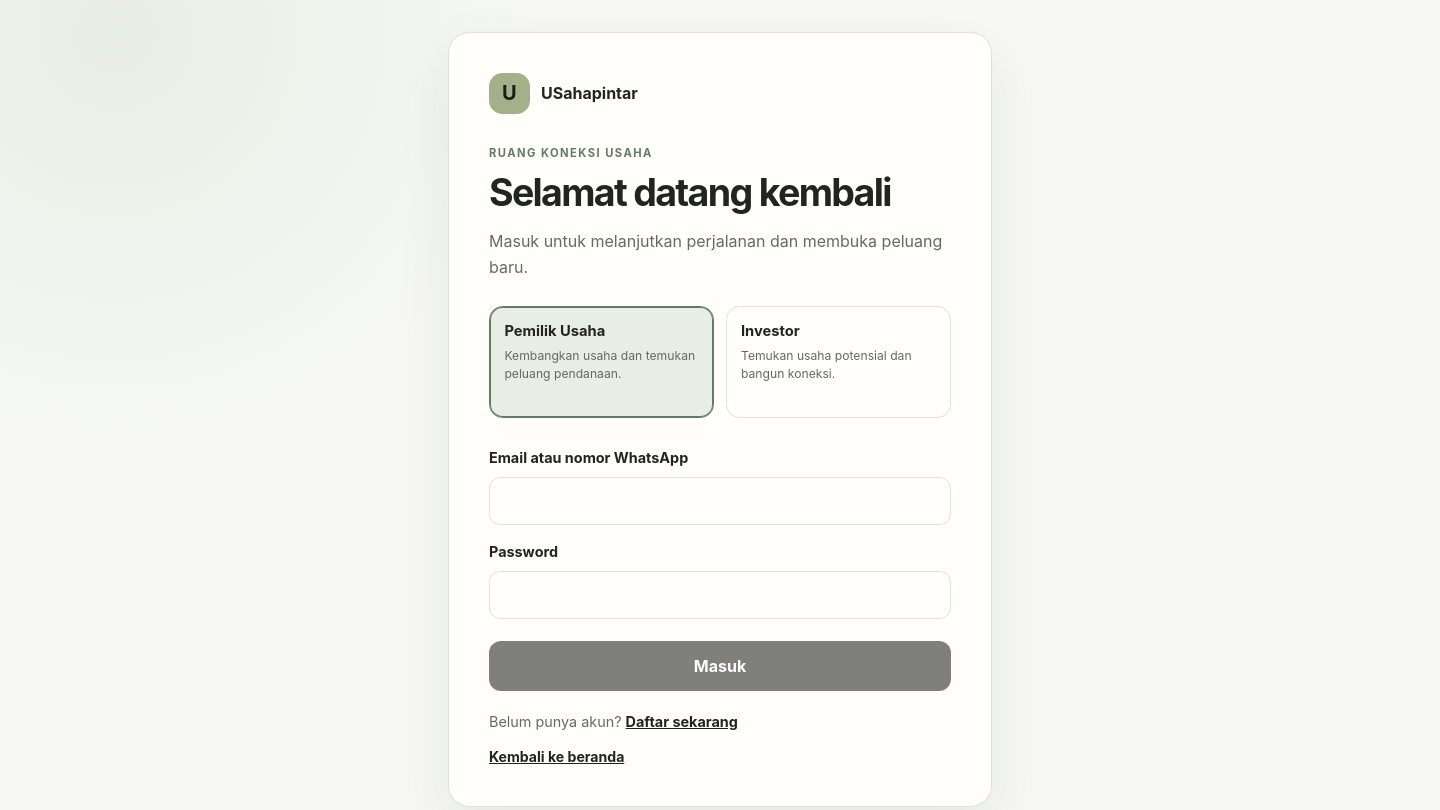
Scenario: ClientLoginPage › uses the investor endpoint when Investor is selected
This screenshot has width=1440, height=810.
Click the button "Investor Temukan usaha potensial dan bangun koneksi.".
click(838, 362)  # box [726,306,951,418]
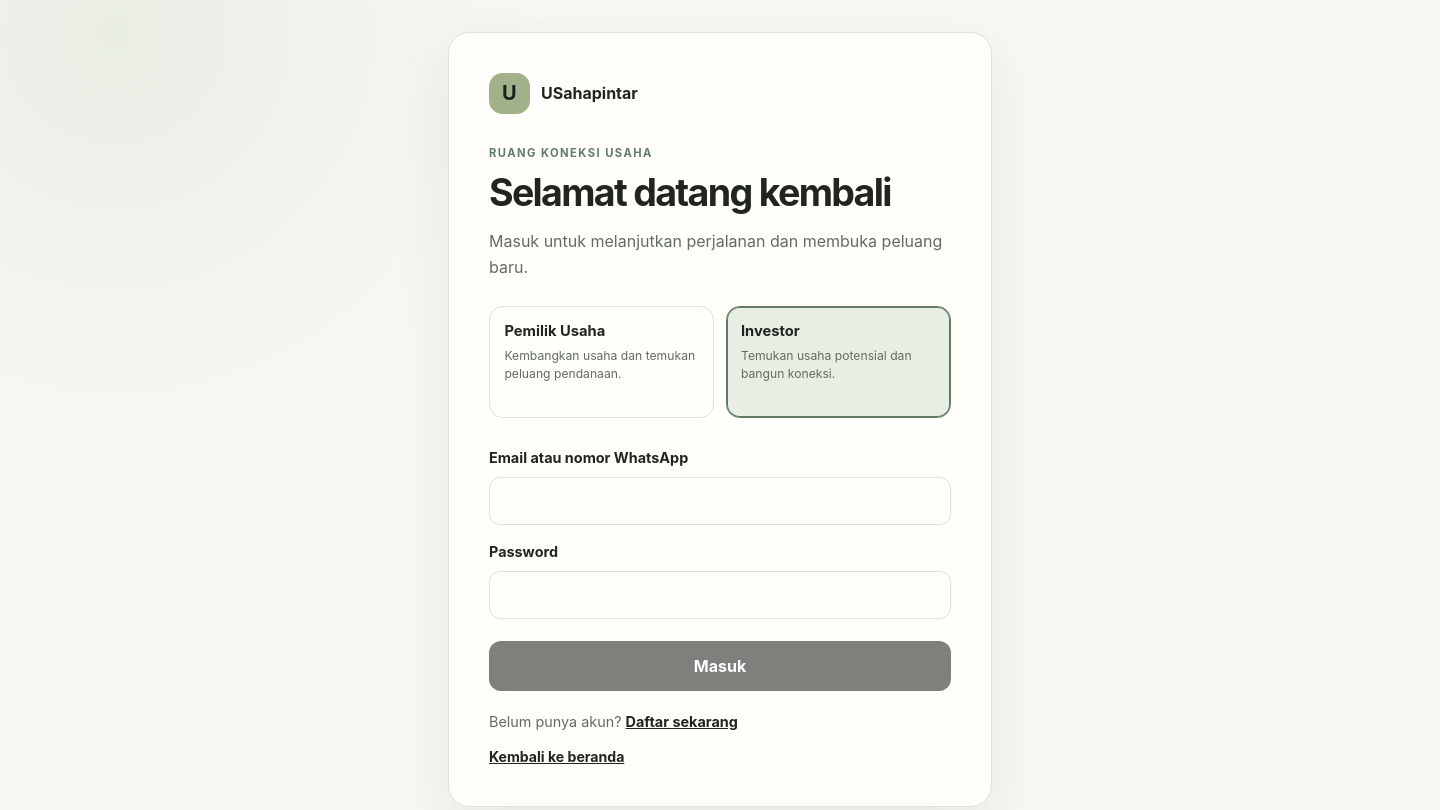
Type "investor@example.test" into the field labelled "Email atau nomor WhatsApp".
click(720, 501); type("investor@example.test")  # box [489,477,951,525]
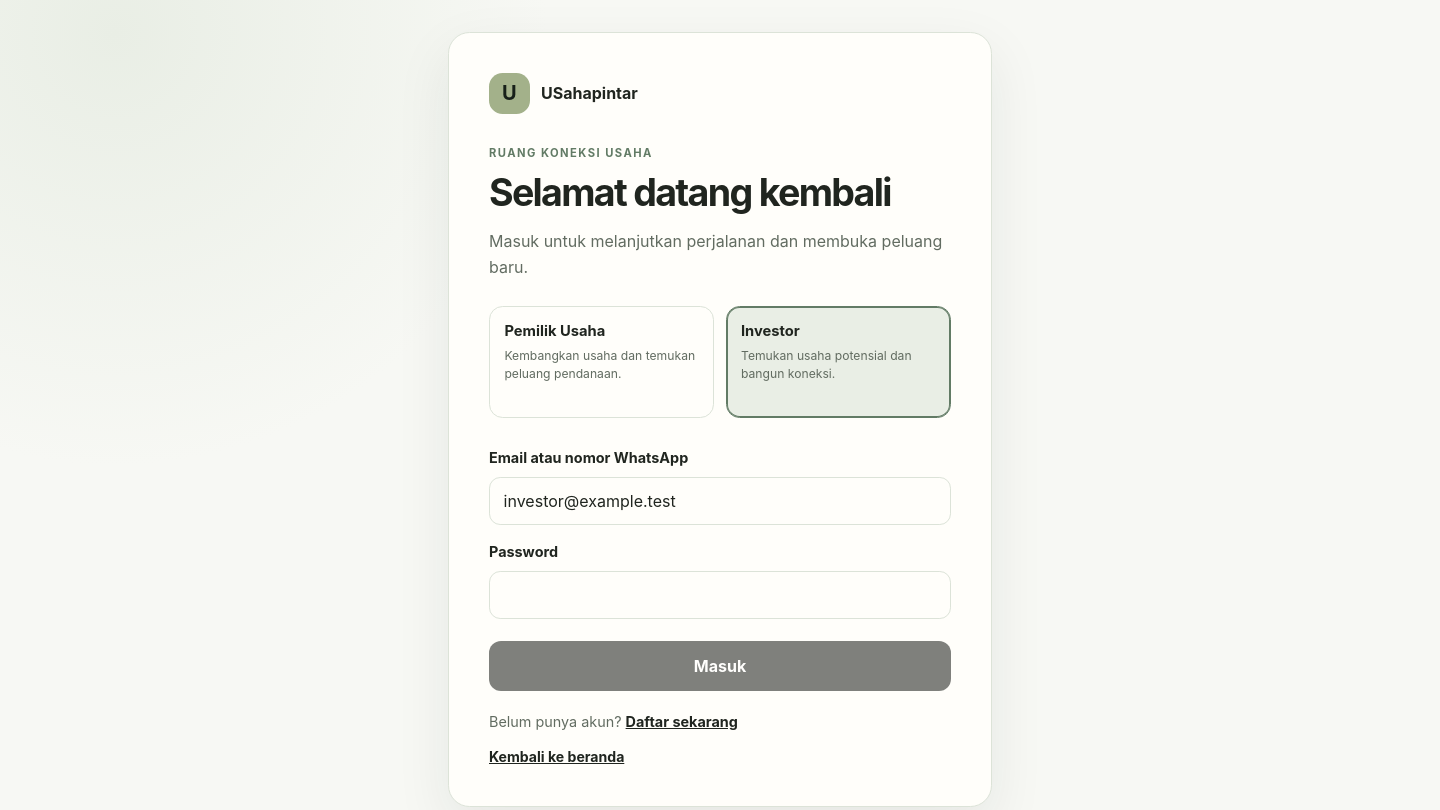
Type "not-a-real-password" into the password field labelled "Password".
click(720, 595); type("not-a-real-password")  # box [489,571,951,619]
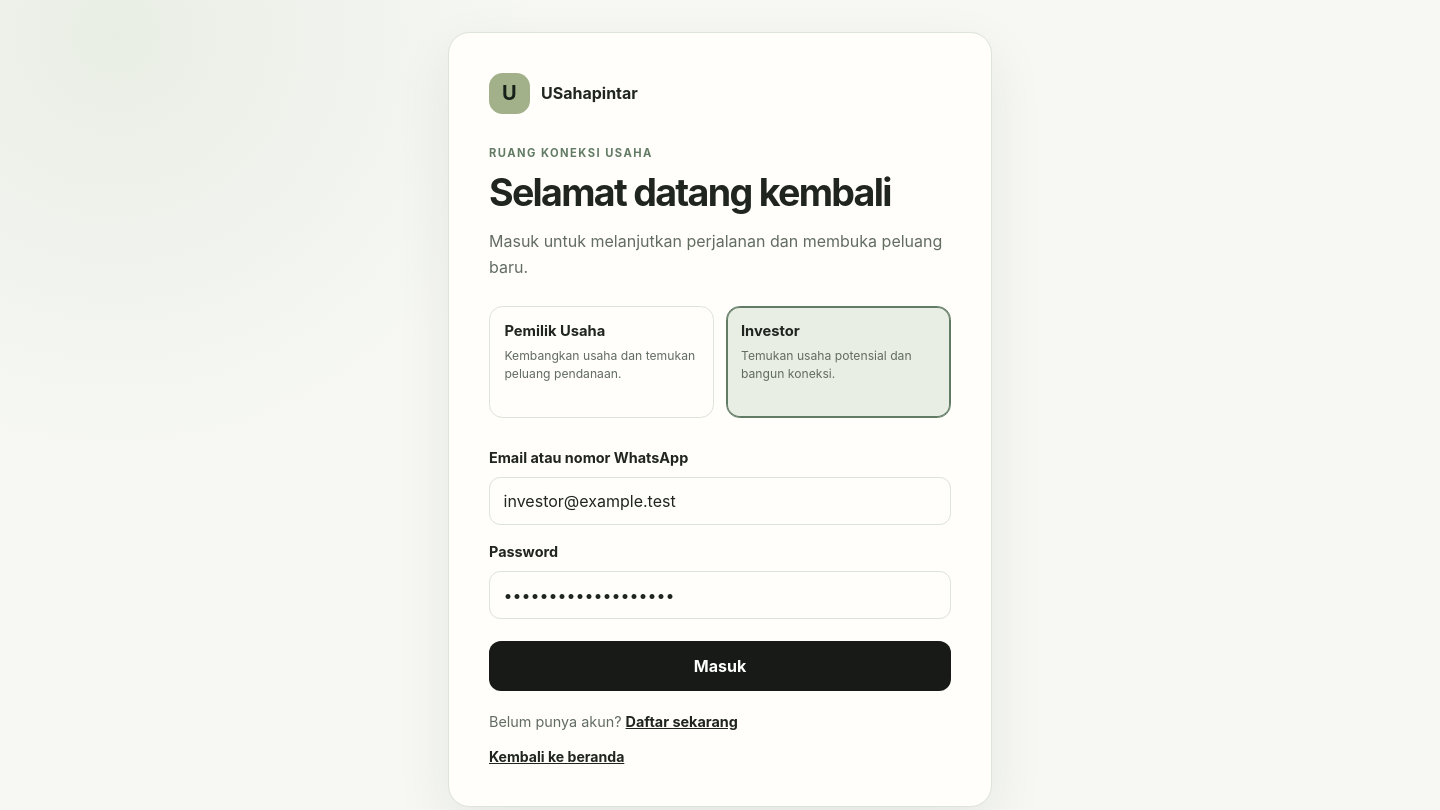
Click the button "Masuk".
click(720, 666)  # box [489,641,951,691]
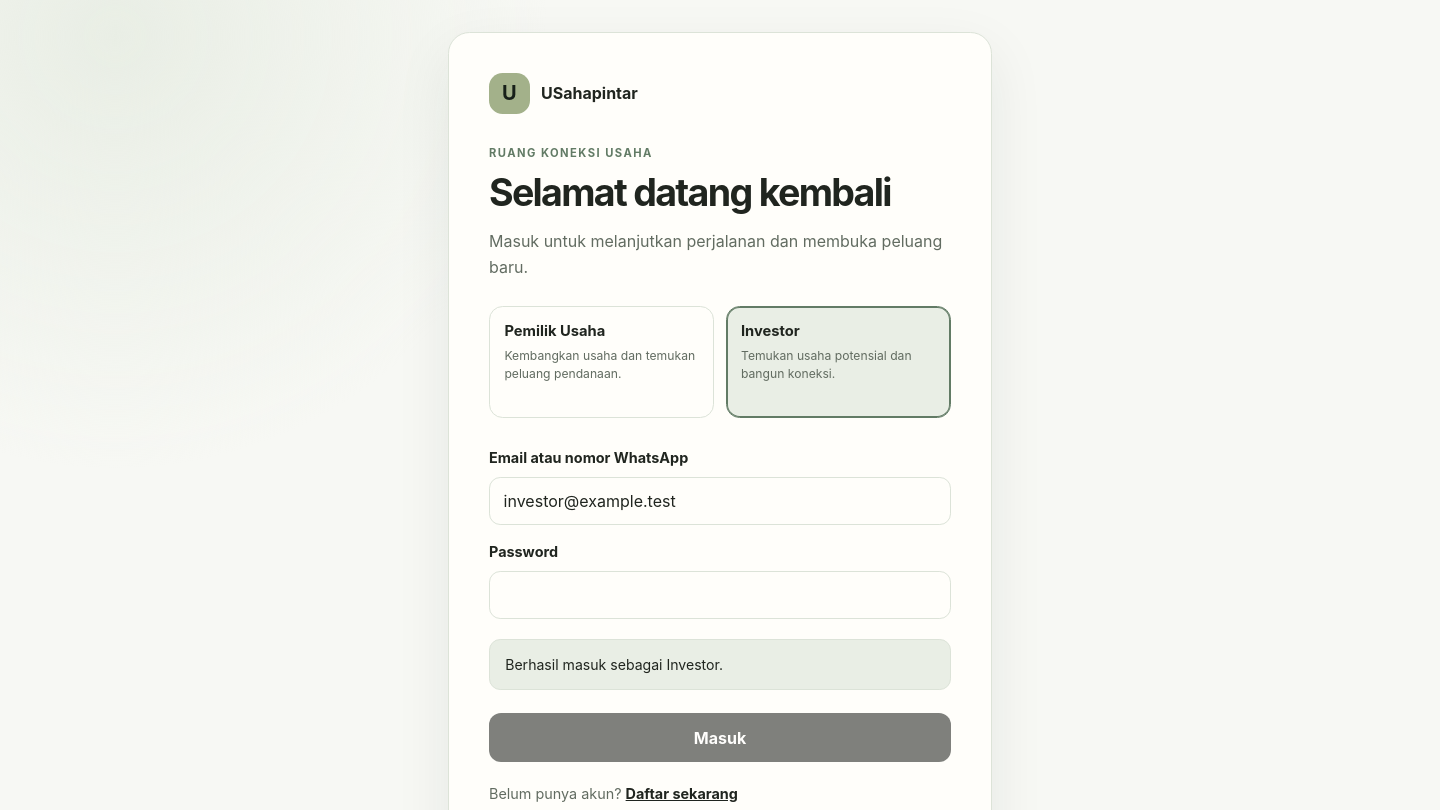
Expected: the message reads "Berhasil masuk sebagai Investor.", [505,656,723,673]
